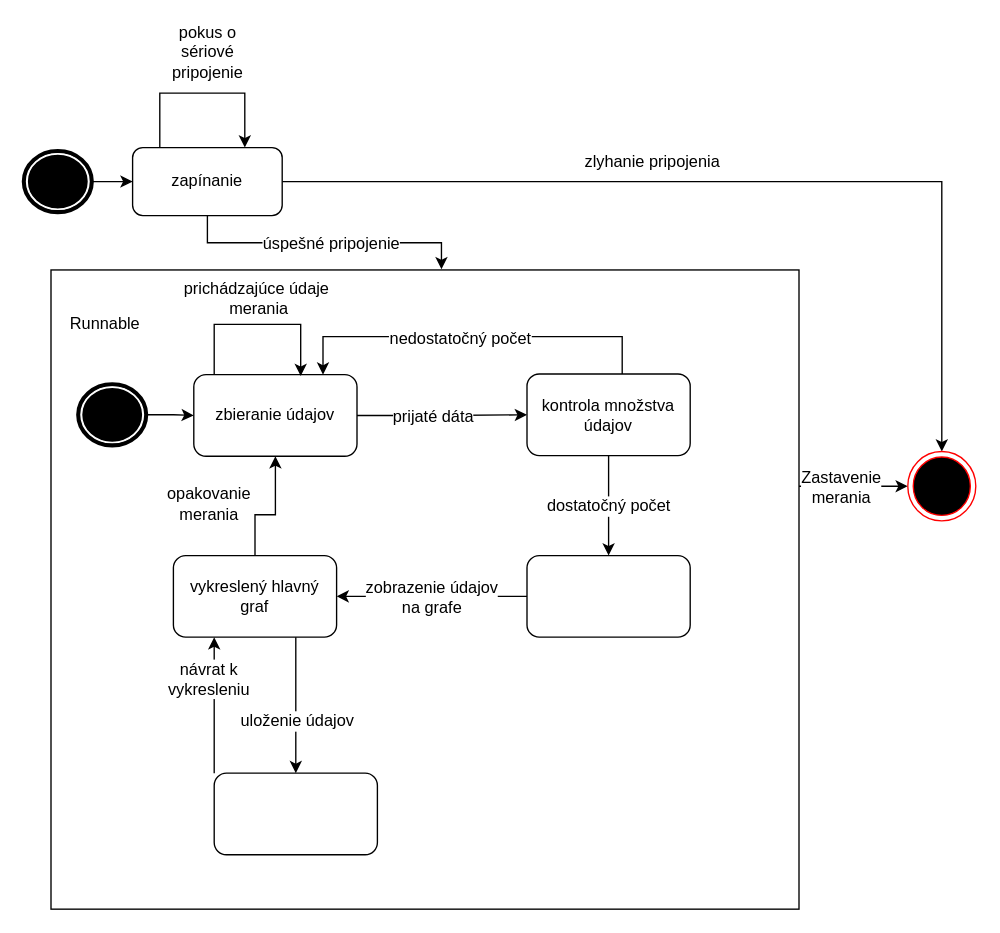
This 1000x933 diagram has some shape labels left out. Each missing label, with the centre of its shape:
"agregovanie údajov" goes at pixel 608 595.
"Ukladanie" goes at pixel 295 813.
